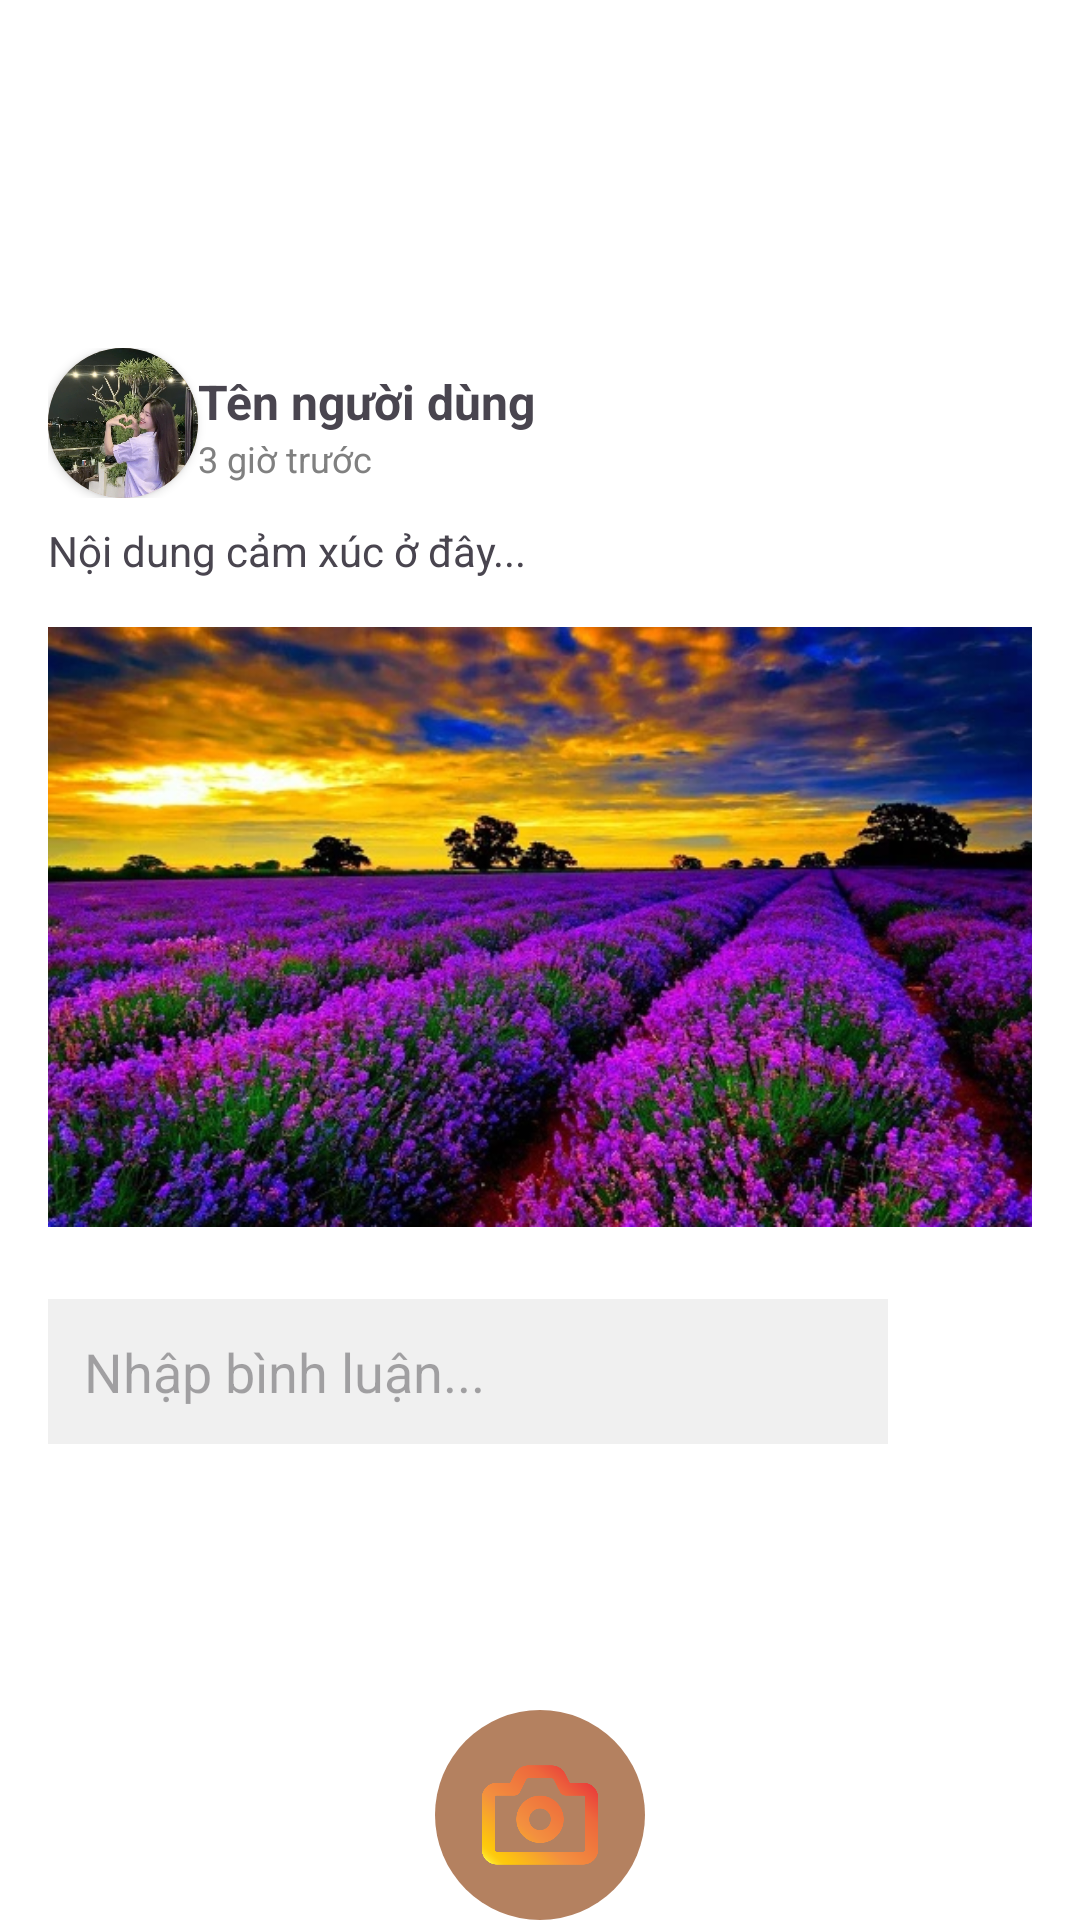

Locate icon controls on the screen. Image size 1080*1920, boxes as (x1, y1, x2, y2).
take photo: (435, 1710, 645, 1920)
